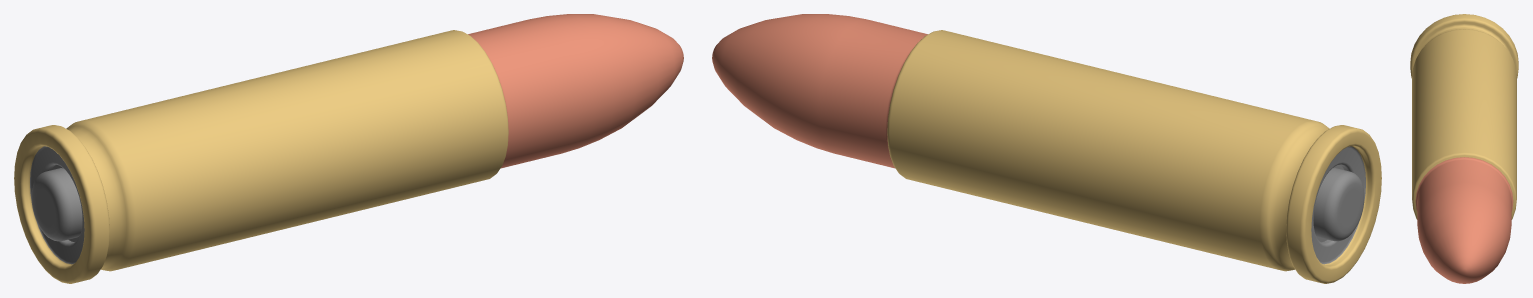
File: newbullet04.fbx
3 renders of one model, left to right at view 1: azimuth 30°, elevation 25°; view 2: azimuth 150°, elevation 25°; view 3: azimuth 270°, elevation 25°, orthographic. The views are drawn at different scales.
Parts seen in each view (by area): view 1: Bullet; view 2: Bullet; view 3: Bullet.
Boxes of the visible parts, bbox=[...] form: Bullet: bbox=[14, 14, 683, 283]; Bullet: bbox=[712, 14, 1381, 283]; Bullet: bbox=[1410, 14, 1518, 283].
Bounding box in the file's own units: 8.45 × 1.84 × 1.84.
